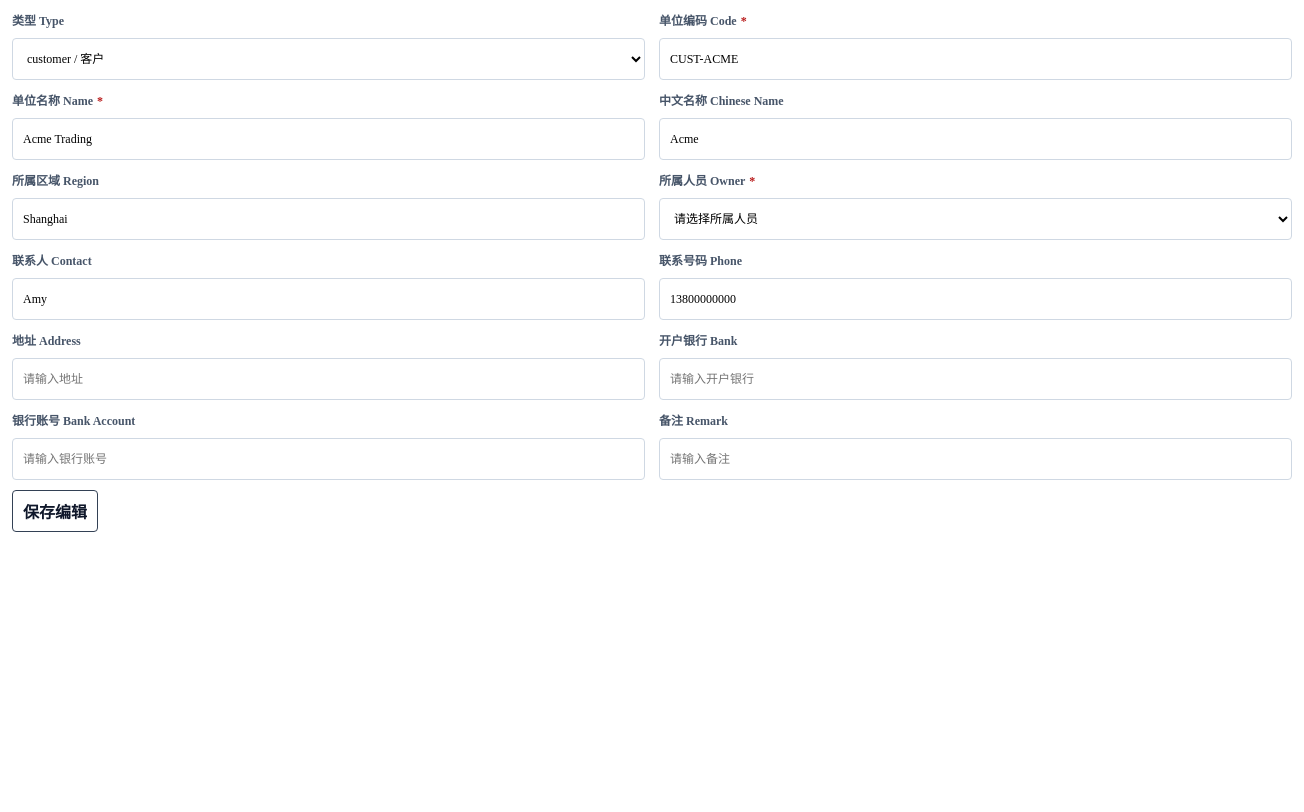
Test case: formal counterparty master data page › shows unified required field validation before submitting update form
Click the button "保存编辑" at (55, 511), box [12,490,98,532]
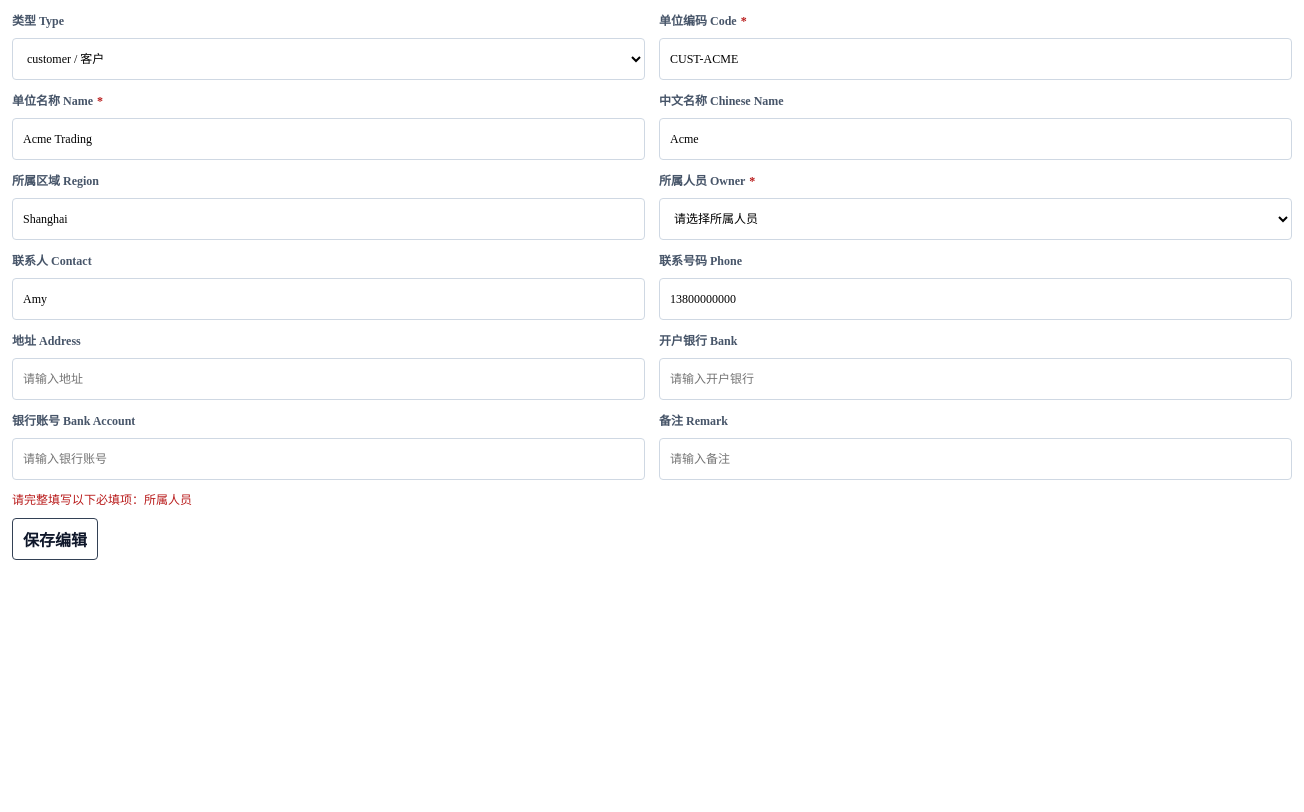
Result: the text "请完整填写以下必填项：所属人员" is shown at [12,493,192,507]
